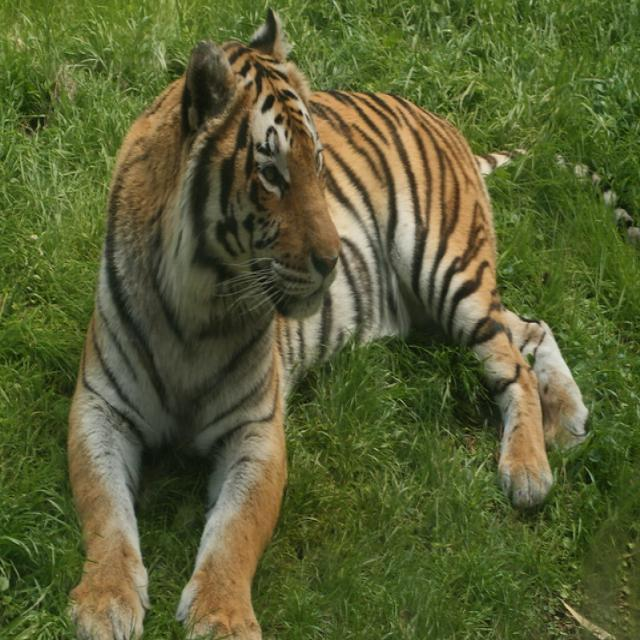Tiger: (70, 2, 574, 639)
